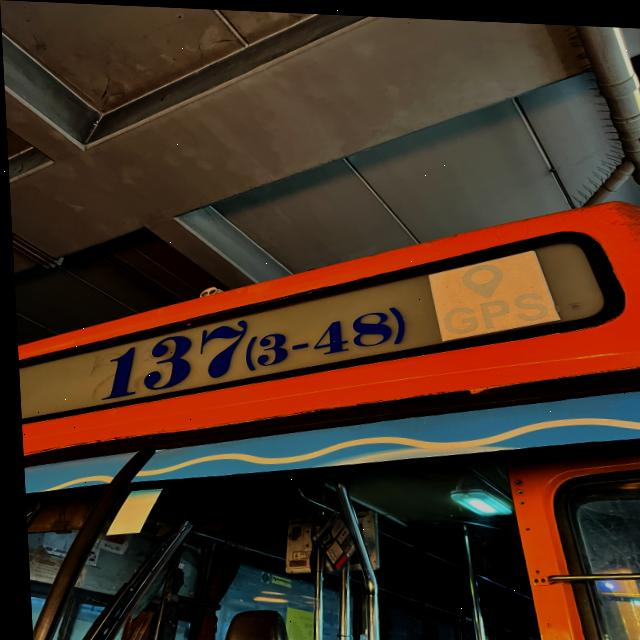BMTA-bus: (7, 176, 640, 640)
Bus-Line-Number: (80, 266, 410, 418)
